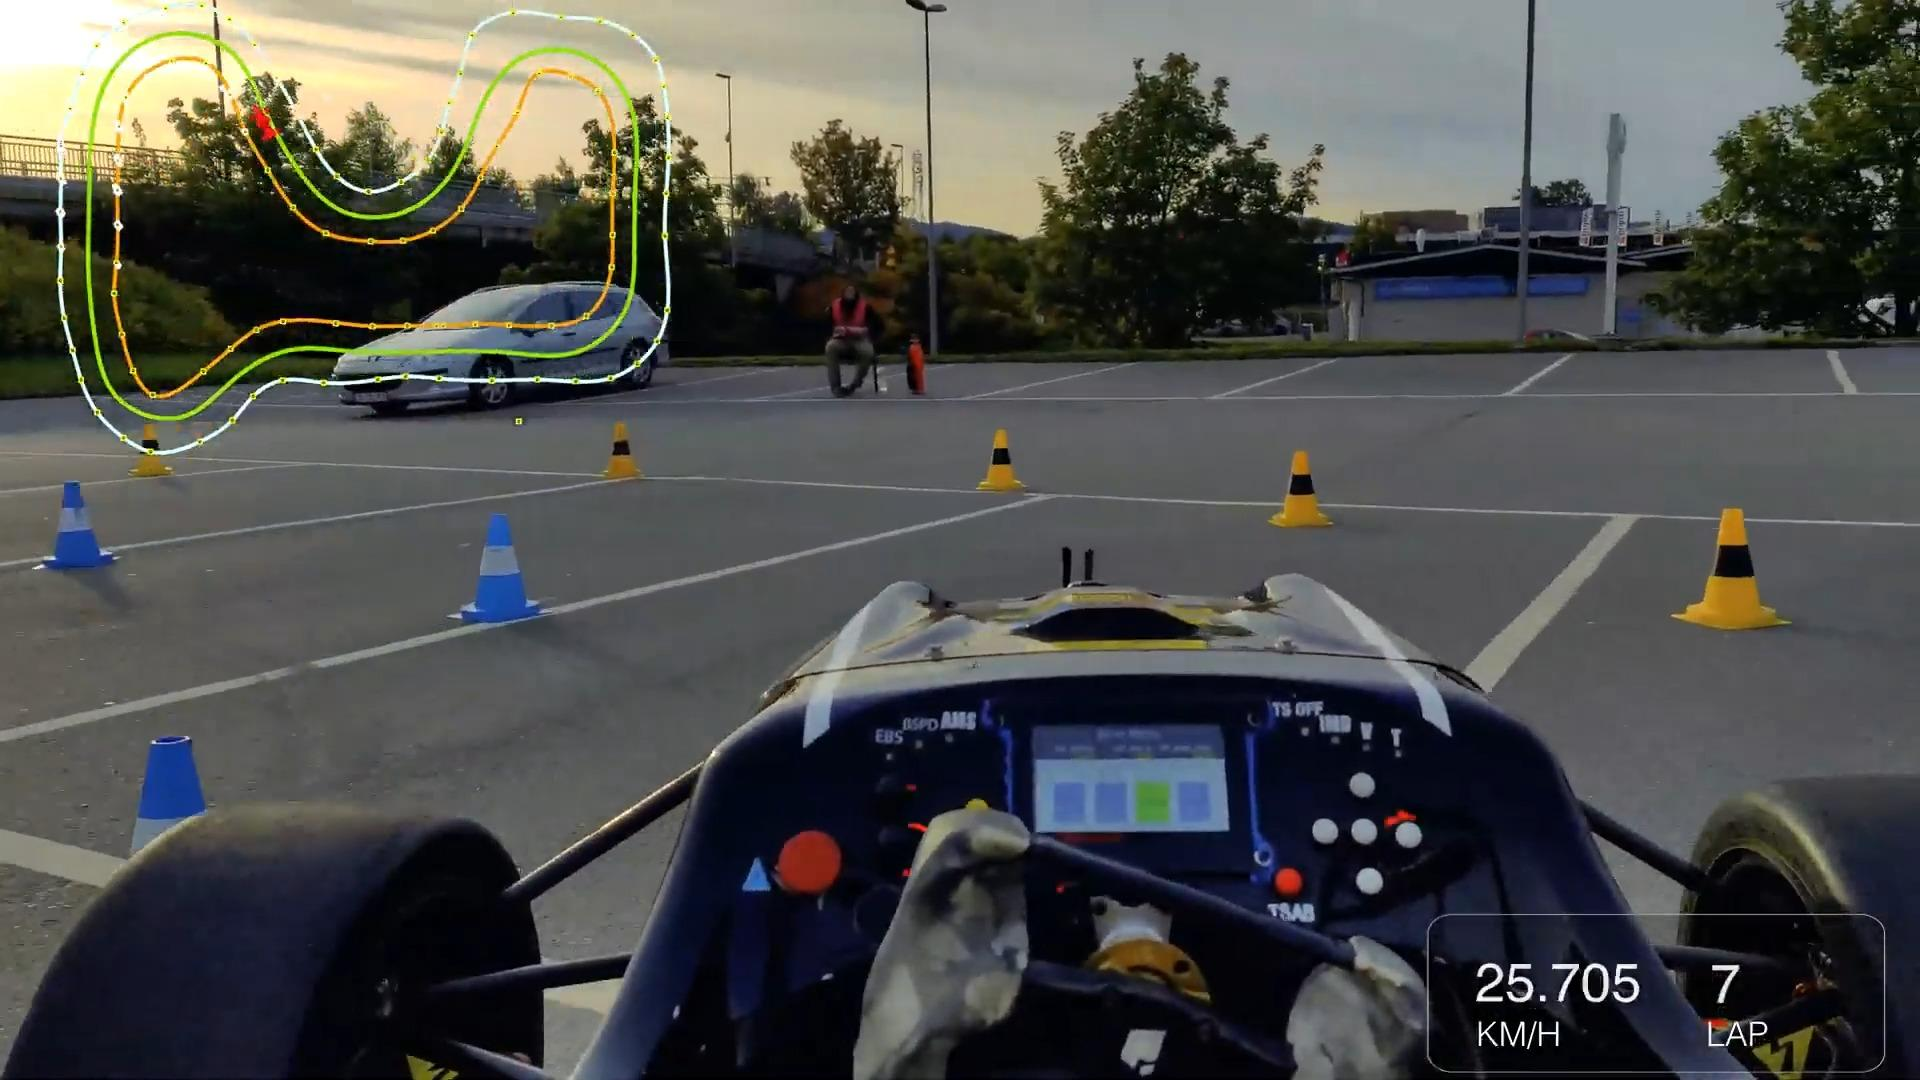blue_cone: (96, 709, 291, 994), (443, 495, 562, 633), (26, 469, 123, 587)
yellow_cone: (1665, 498, 1799, 633), (1266, 440, 1336, 534), (128, 417, 183, 488), (973, 427, 1029, 497), (591, 415, 644, 487)
